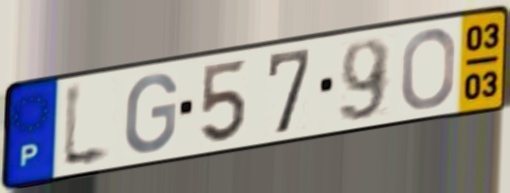5: (200, 56, 247, 144)
7: (264, 47, 312, 137)
9: (335, 35, 397, 123)
G: (121, 71, 180, 156)
L: (59, 77, 116, 175)
O: (398, 26, 458, 113)
